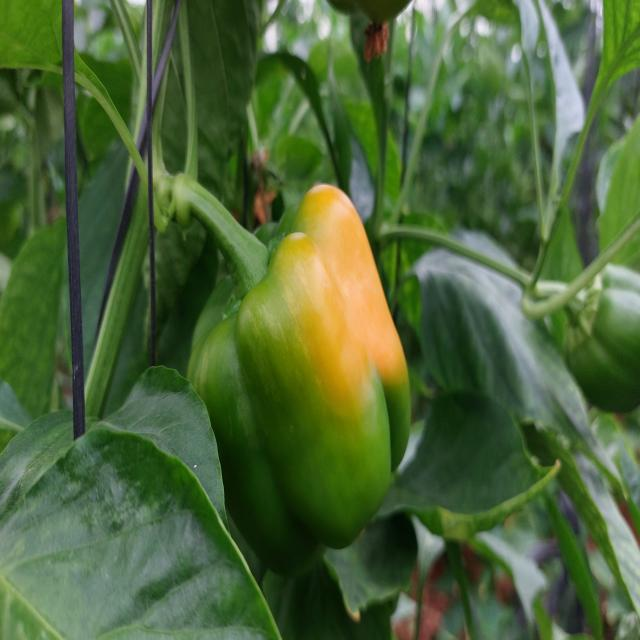GreenishYellow--Can-be-Harvested: (162, 196, 447, 590)
